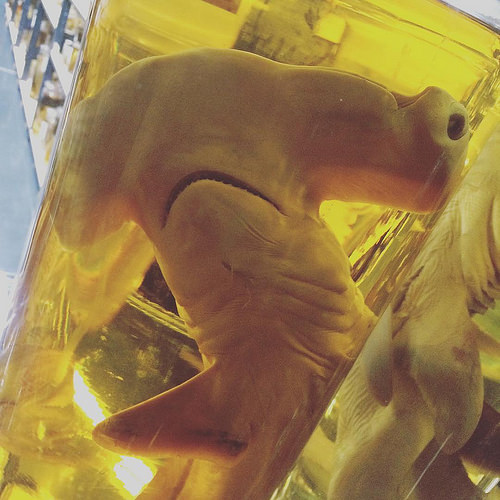shark: (22, 49, 475, 492)
